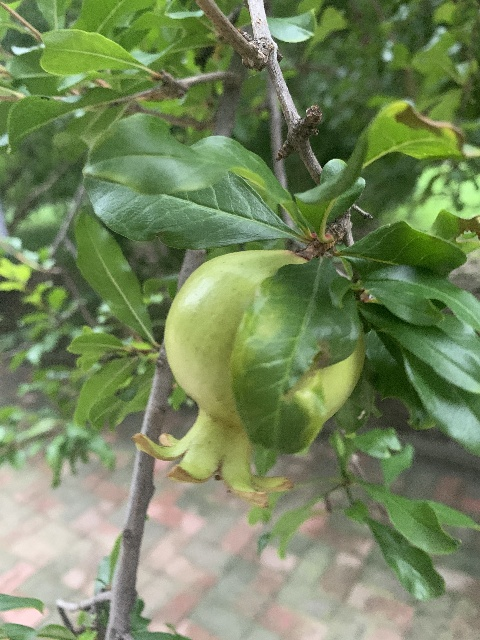mid-growth: (133, 248, 366, 503)
